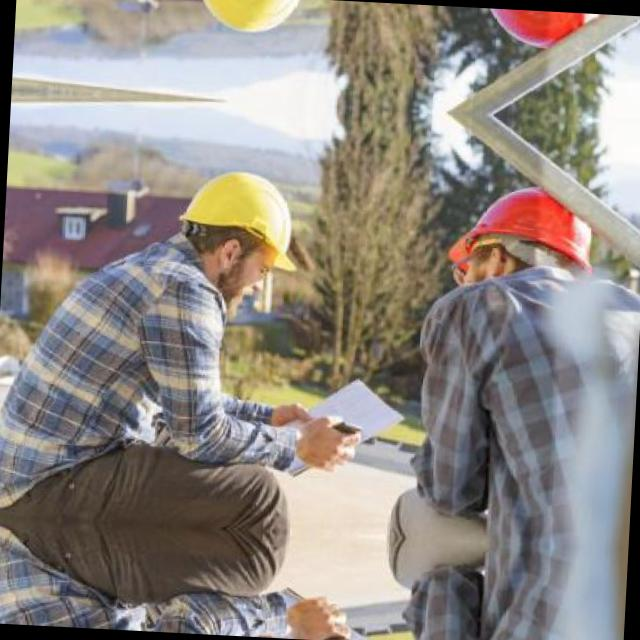helmet: (429, 164, 597, 326), (174, 160, 303, 310), (443, 6, 607, 70), (187, 0, 312, 44)
